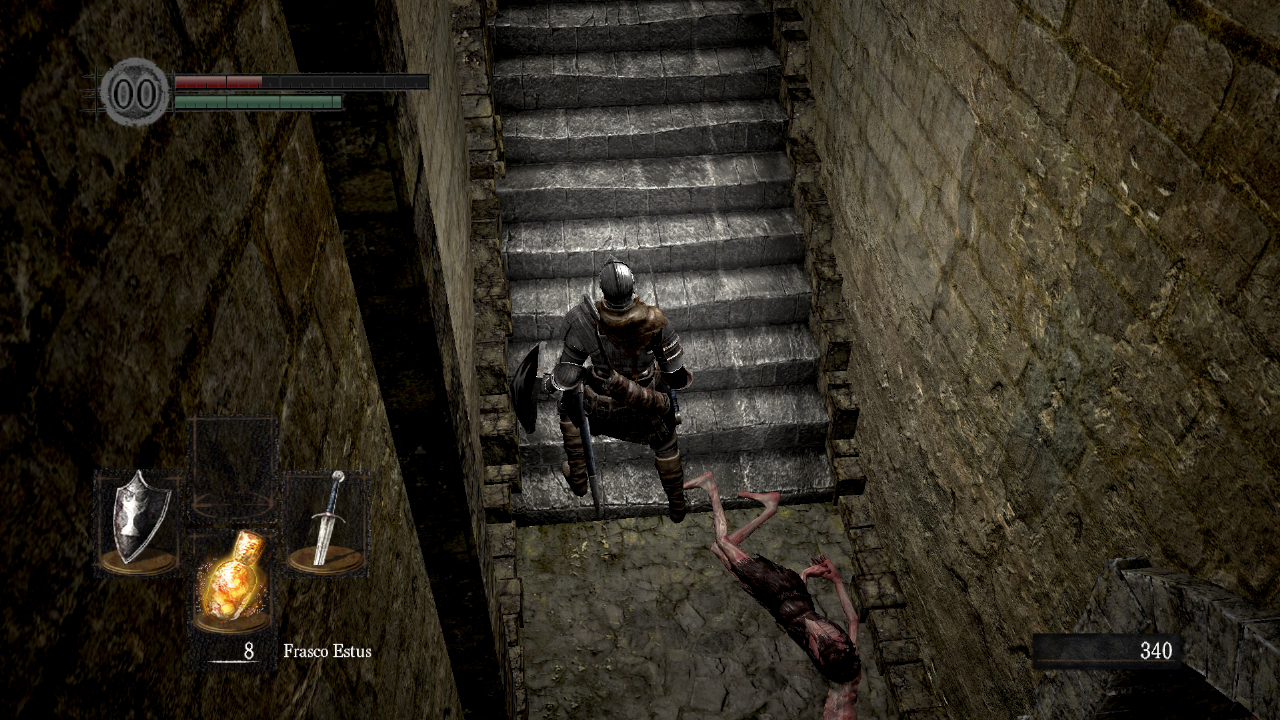hollow: (683, 470, 862, 720)
player: (509, 253, 694, 523)
